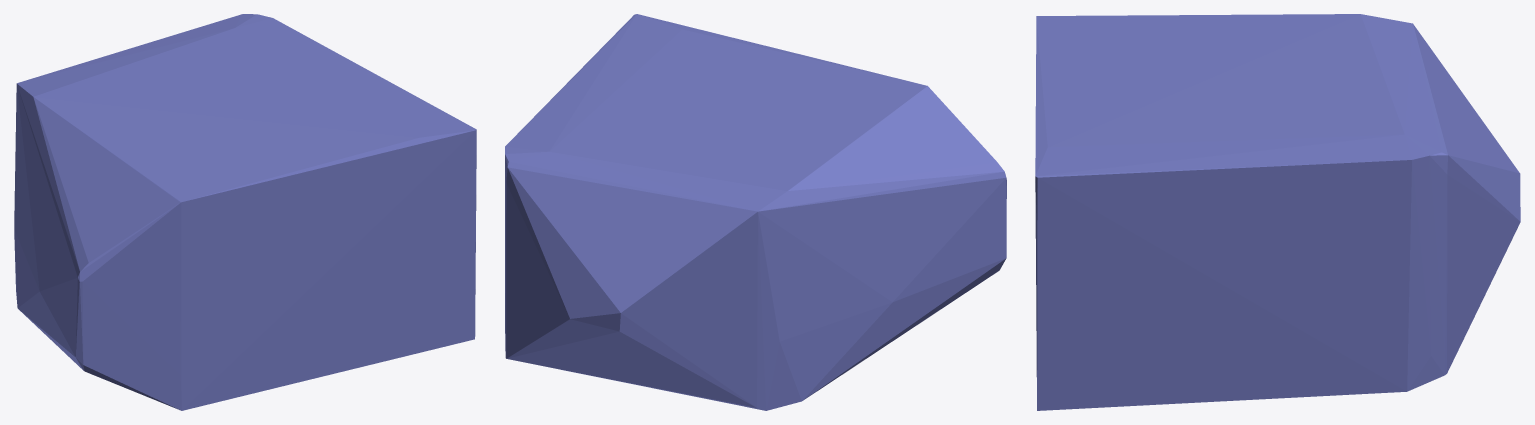
The model's file is equipment_liftTable_scissorMobile_a01.glb.
3 renders of one model, left to right at view 1: azimuth 30°, elevation 25°; view 2: azimuth 150°, elevation 25°; view 3: azimuth 270°, elevation 25°, orthographic. The views are drawn at different scales.
Visible parts, largest first — view 1: geometry_0; view 2: geometry_0; view 3: geometry_0.
Part boxes in pixels (x1=…): geometry_0: x1=14, y1=14, x2=476, y2=410; geometry_0: x1=505, y1=14, x2=1006, y2=410; geometry_0: x1=1035, y1=14, x2=1520, y2=410.
Bounding box in the file's own units: 0.4796 × 0.2482 × 0.4629.
